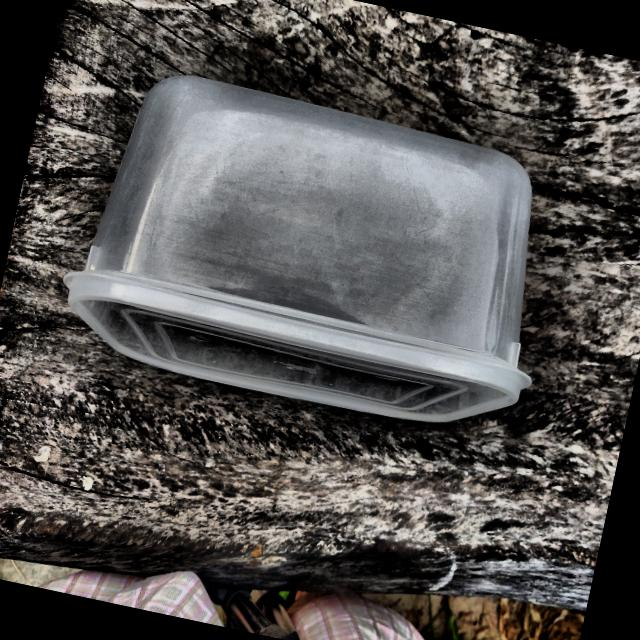plastic container: (46, 23, 594, 474)
